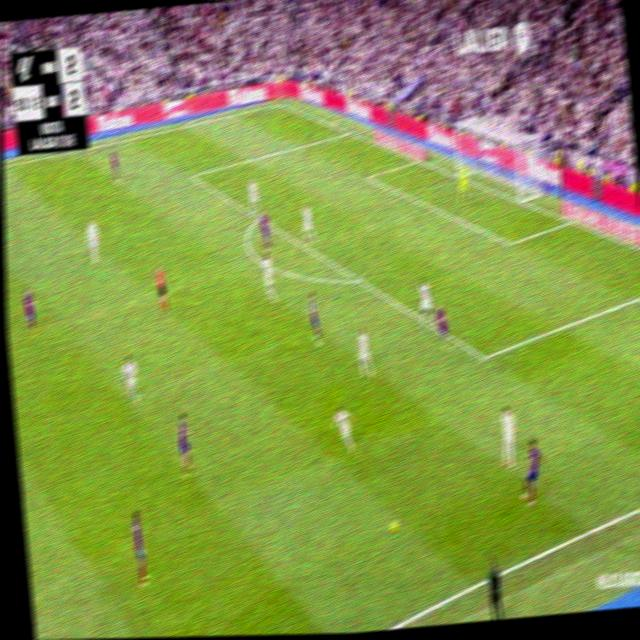bigarea_bottom_inner: (476, 344, 491, 371)
bigarea_top_inner: (187, 169, 196, 182)
bigarea_top_outter: (344, 126, 353, 136)
bottom_arc_area_intersection: (353, 271, 364, 286)
corner: (275, 98, 284, 106)
smallarea_top_inner: (363, 170, 371, 182)
top_arc_area_intersection: (254, 210, 262, 223)
